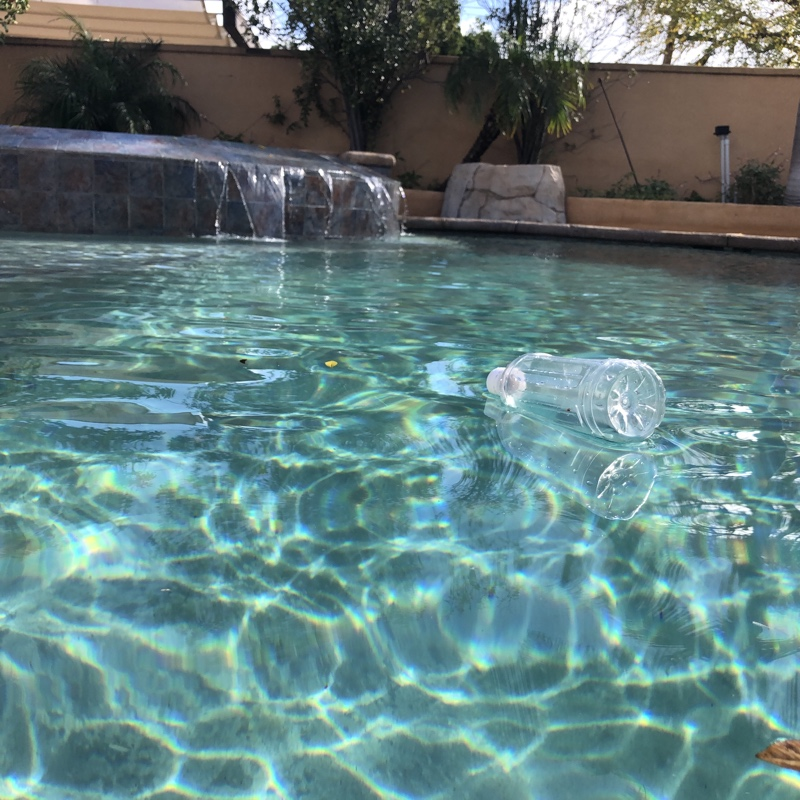Plastic Bottle: (477, 347, 668, 447)
